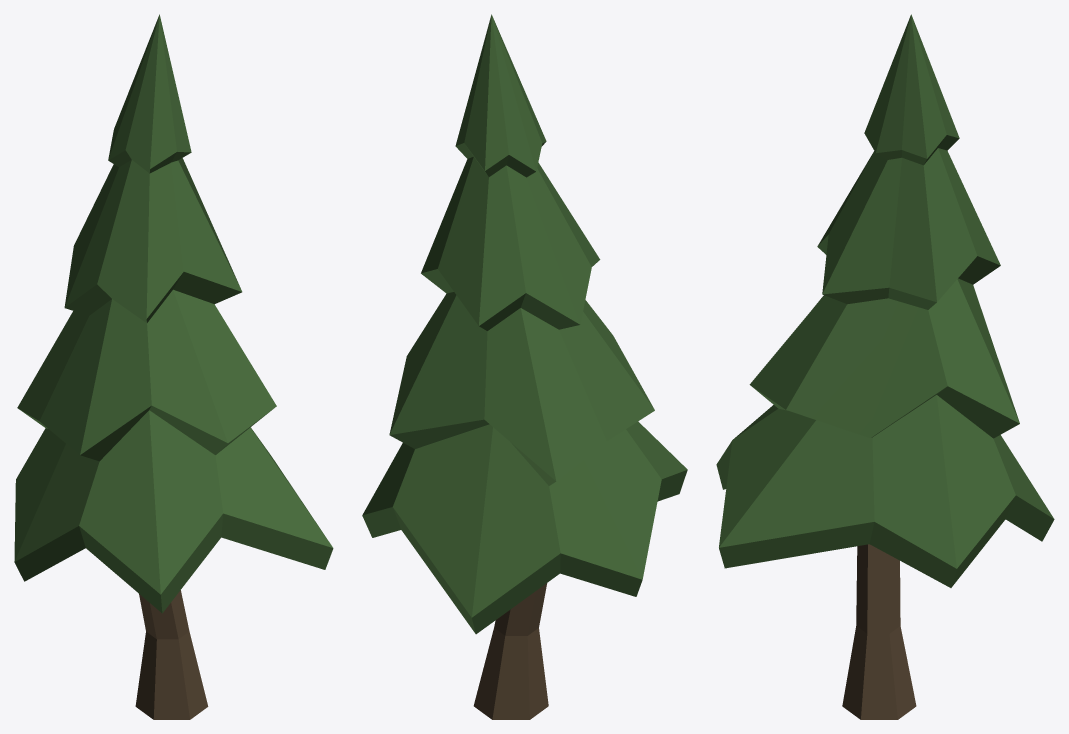
The model's file is tree_pine_00.fbx.
The picture shows the model from 3 angles, left to right: view 1: azimuth 30°, elevation 25°; view 2: azimuth 150°, elevation 25°; view 3: azimuth 270°, elevation 25°; orthographic projection. The views are drawn at different scales.
Visible parts, largest first — view 1: tree; view 2: tree; view 3: tree.
Part boxes in pixels (left/top/right/bottom): tree: left=14, top=14, right=333, bottom=719; tree: left=362, top=14, right=687, bottom=719; tree: left=716, top=14, right=1054, bottom=719.
Bounding box in the file's own units: 0.212 × 0.5546 × 0.2449.
